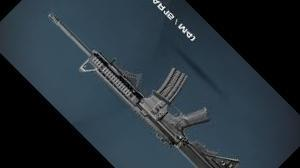larga: (48, 11, 240, 168)
